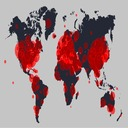

What the dashboard file says about the page in this screenshot:
{"tool":"powerbi","page":{"name":"Página 3","canvas":[1280,720],"ordinal":2},"visuals":[{"type":"map","fields":{"Size":["Sum(datos_noticias.Column20)"]},"box":[206.7,20,280,280],"z":0}]}

Visuals, with their boxes on the page's 1280x720 design canvas (x1, y1, x2, y2). These are canvas units, not pixel positions in the 128x128 screenshot, which may show the page scaled, cropped or inside an application window:
map - Sum(datos_noticias.Column20): <bbox>207, 20, 487, 300</bbox>
